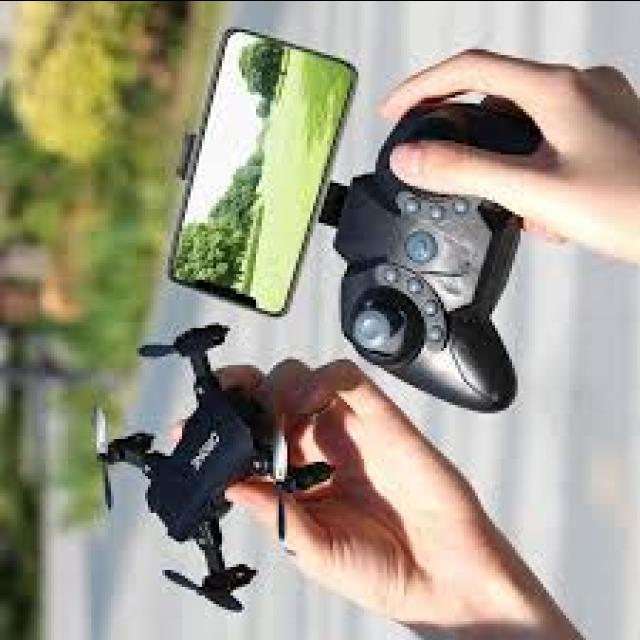drone: (83, 298, 333, 609)
